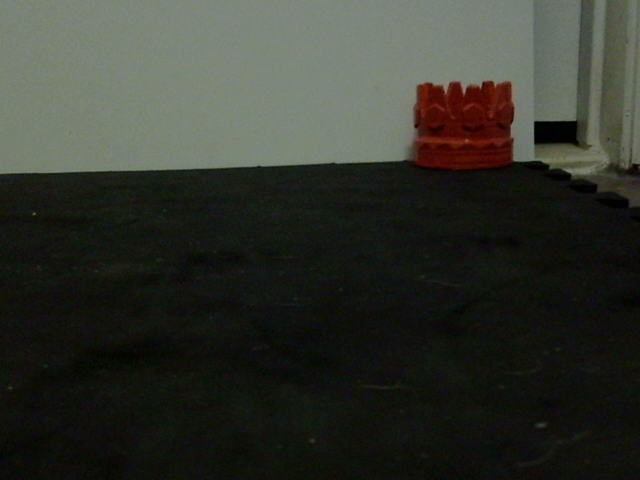crown: (412, 80, 518, 172)
